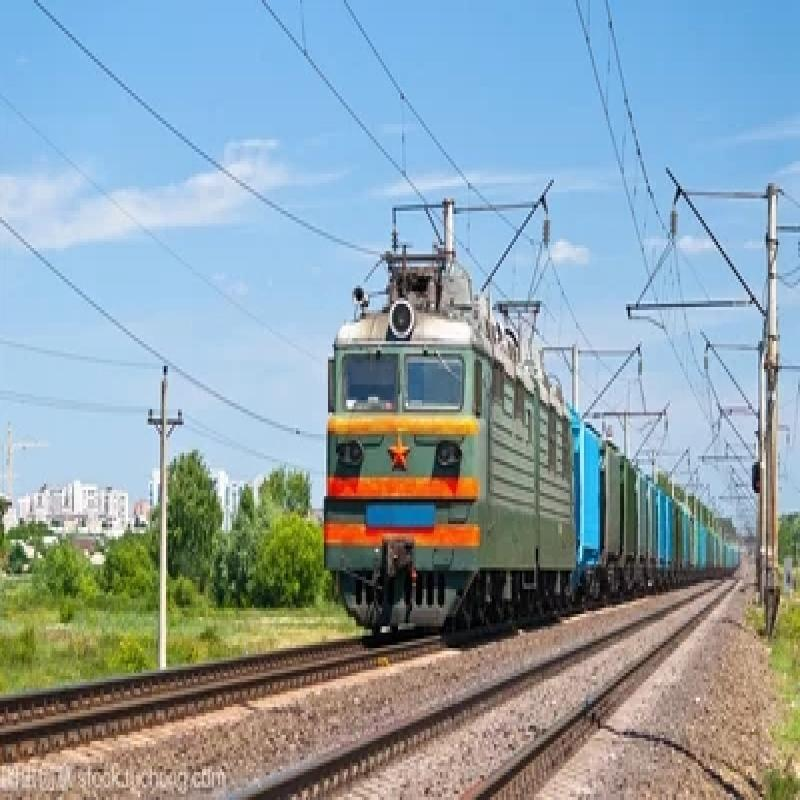train: (311, 237, 575, 640)
